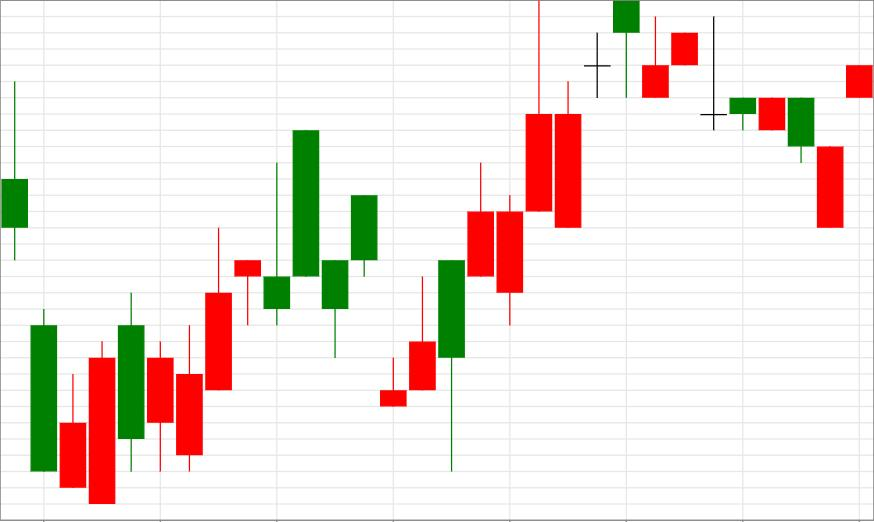hanging_man_fall: (381, 0, 640, 471)
